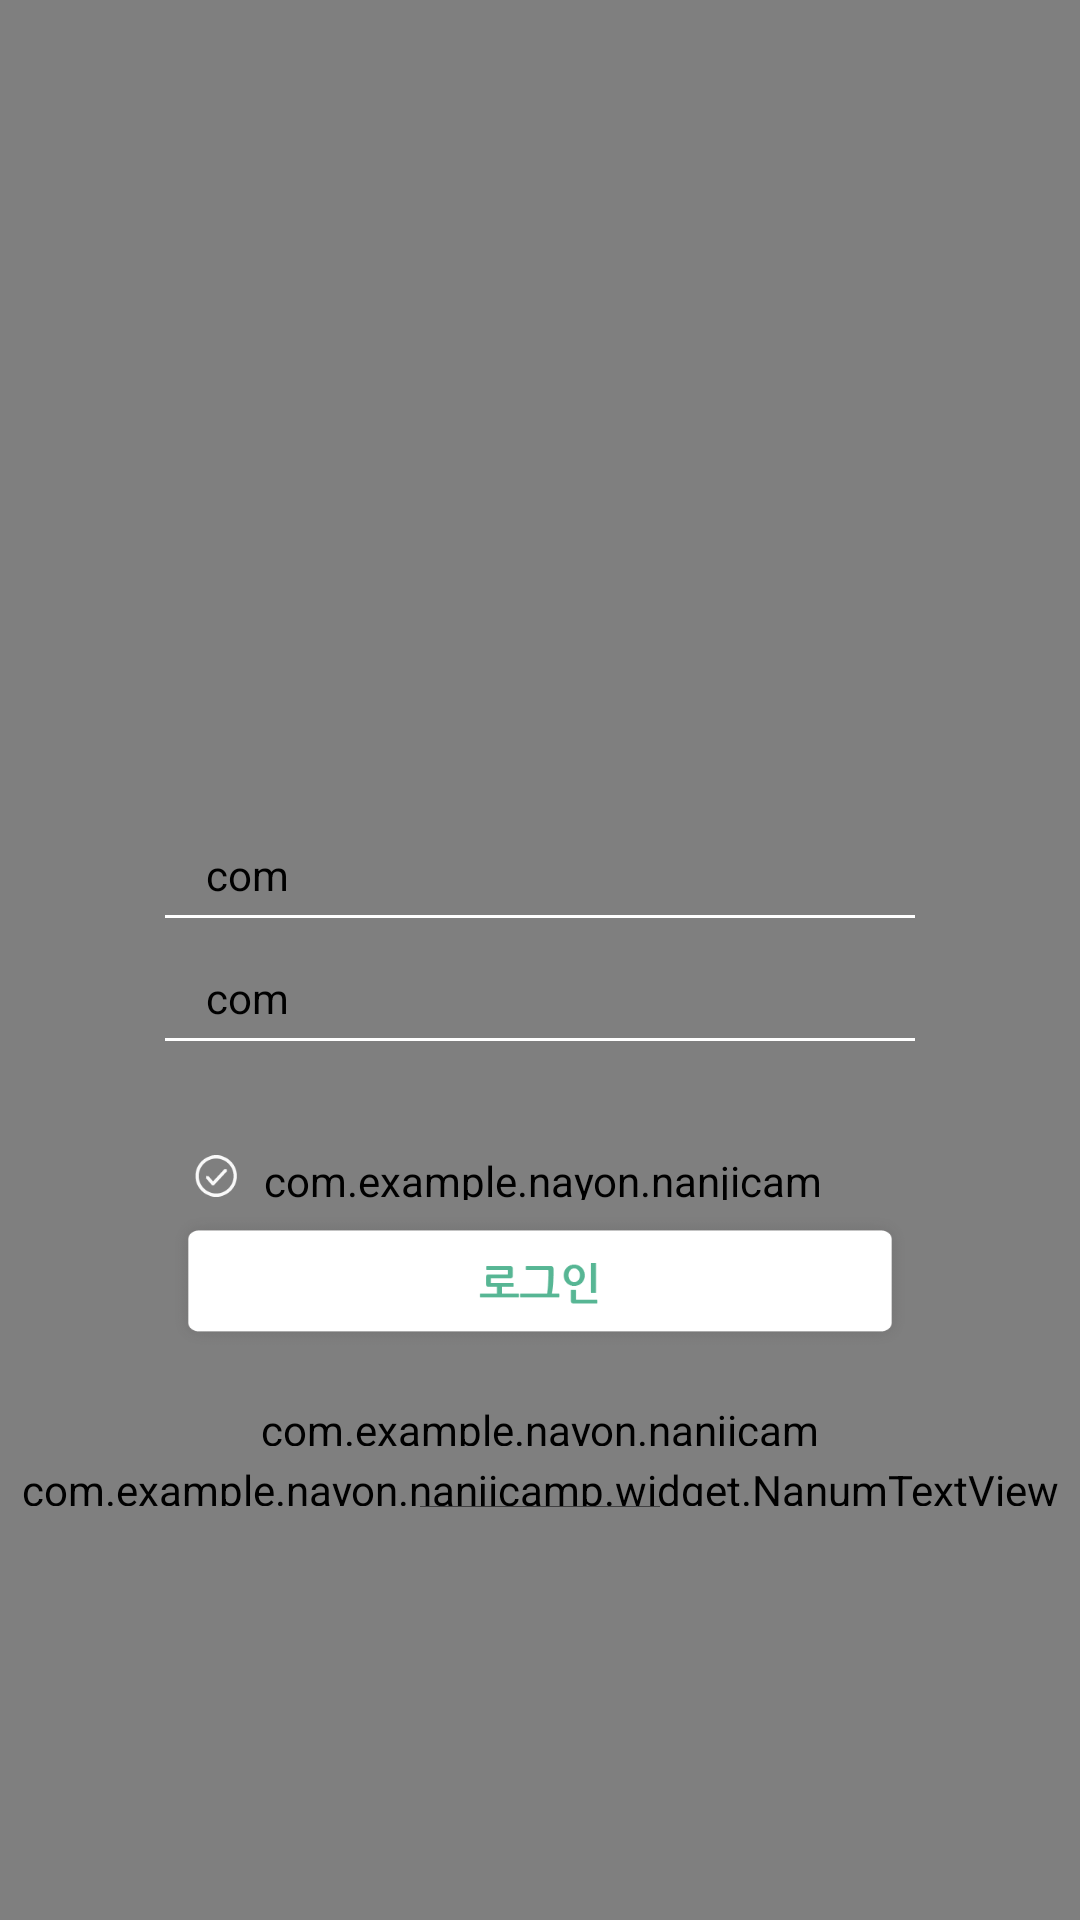

Icon click points for this 1080 x 1920 phone screenshot, format [x,y]:
login check: [216,1176]
